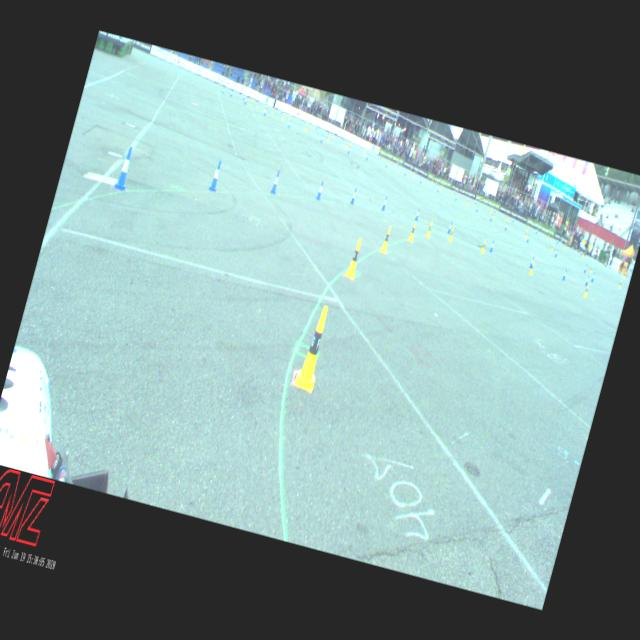blue_cone: (114, 147, 136, 190), (208, 160, 223, 192), (270, 170, 280, 194), (315, 180, 324, 200), (350, 188, 358, 204), (381, 196, 387, 210), (414, 207, 420, 221), (584, 274, 590, 286), (529, 255, 534, 268), (447, 221, 452, 232), (489, 240, 494, 250), (346, 145, 351, 154), (562, 269, 566, 280), (554, 248, 558, 258), (583, 264, 587, 273), (590, 272, 594, 281), (319, 134, 323, 142), (454, 194, 458, 201), (287, 120, 290, 128), (504, 222, 507, 230), (436, 184, 439, 192), (526, 235, 529, 242), (419, 177, 422, 183), (476, 204, 478, 212), (490, 213, 492, 220), (366, 153, 368, 160), (244, 97, 246, 104), (230, 90, 232, 97), (404, 169, 406, 175), (385, 162, 387, 168)
yellow_cone: (292, 303, 334, 393), (345, 237, 364, 279), (379, 224, 392, 253), (407, 220, 417, 242), (424, 220, 432, 238), (447, 226, 454, 242), (480, 240, 486, 252), (582, 285, 588, 297), (528, 262, 534, 274), (618, 279, 622, 288), (504, 214, 508, 221), (304, 123, 307, 131), (327, 134, 330, 142), (281, 112, 284, 120), (492, 212, 496, 218), (589, 264, 592, 272), (363, 148, 366, 156), (412, 170, 415, 178), (524, 230, 527, 237), (550, 244, 553, 251), (439, 184, 442, 190), (489, 207, 492, 213), (346, 141, 348, 148), (264, 105, 266, 112), (466, 198, 468, 204), (546, 234, 548, 240), (381, 155, 383, 161), (288, 114, 290, 120), (452, 189, 454, 195), (256, 103, 258, 108)
